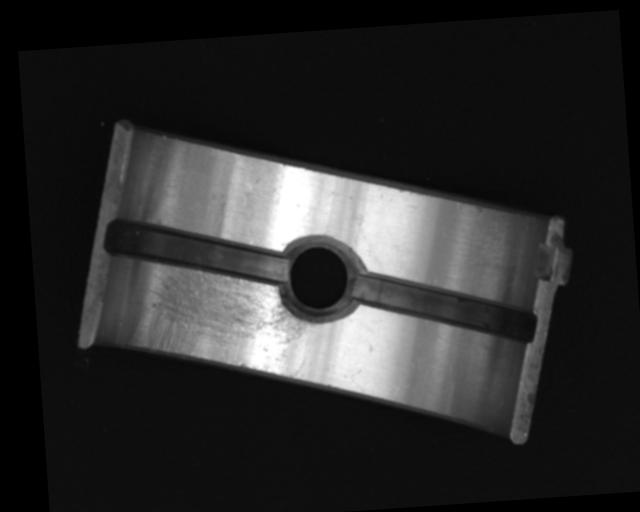gap: (351, 259, 538, 353), (102, 207, 293, 297)
hole: (275, 230, 366, 325)
scratch: (123, 246, 308, 393)
